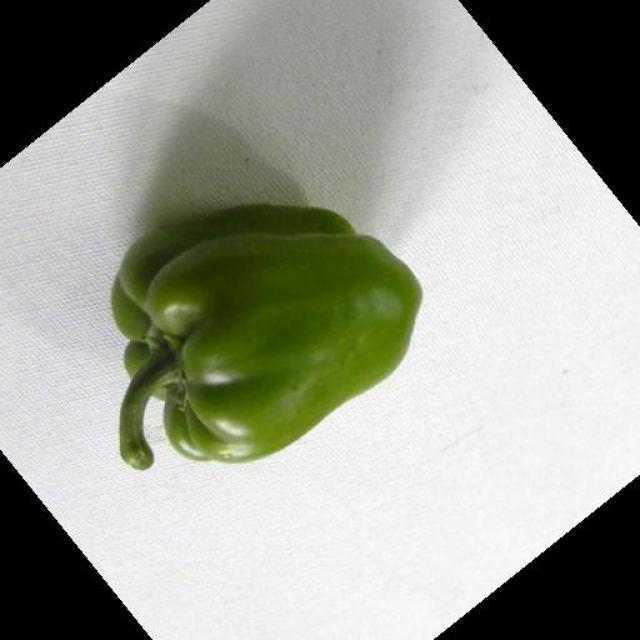Fresh_Capsicum: (123, 200, 429, 441)
